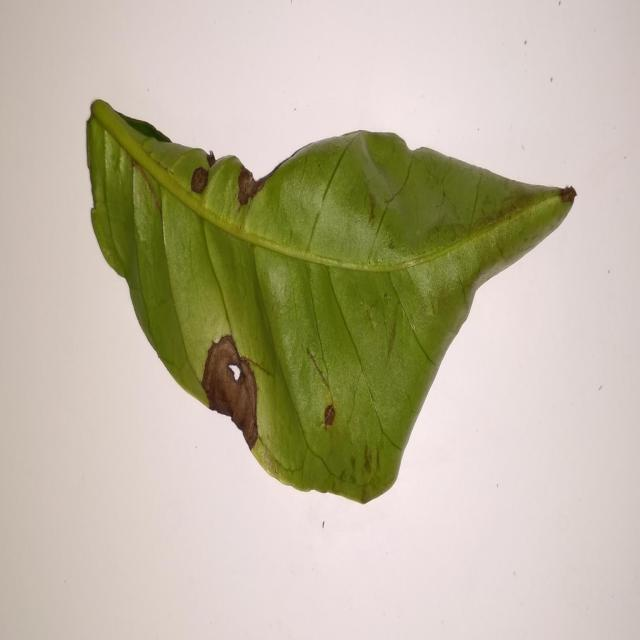phoma: (201, 334, 258, 451), (238, 163, 277, 206), (191, 167, 209, 193), (206, 151, 215, 168)
